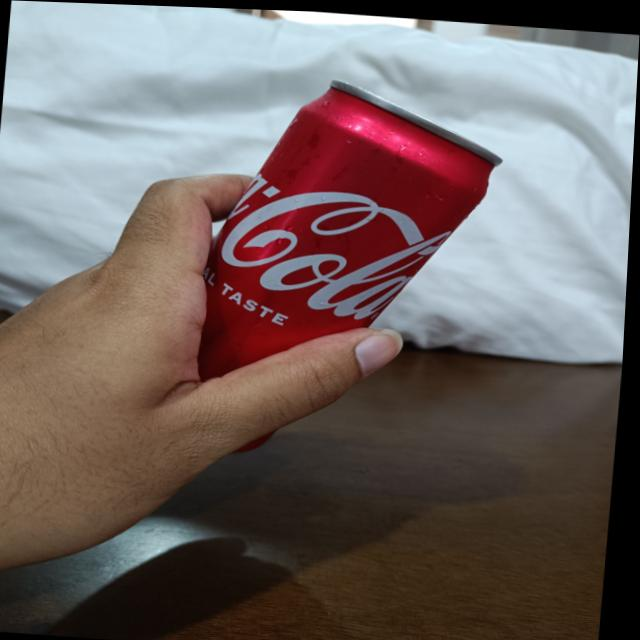coke: (132, 65, 509, 466)
